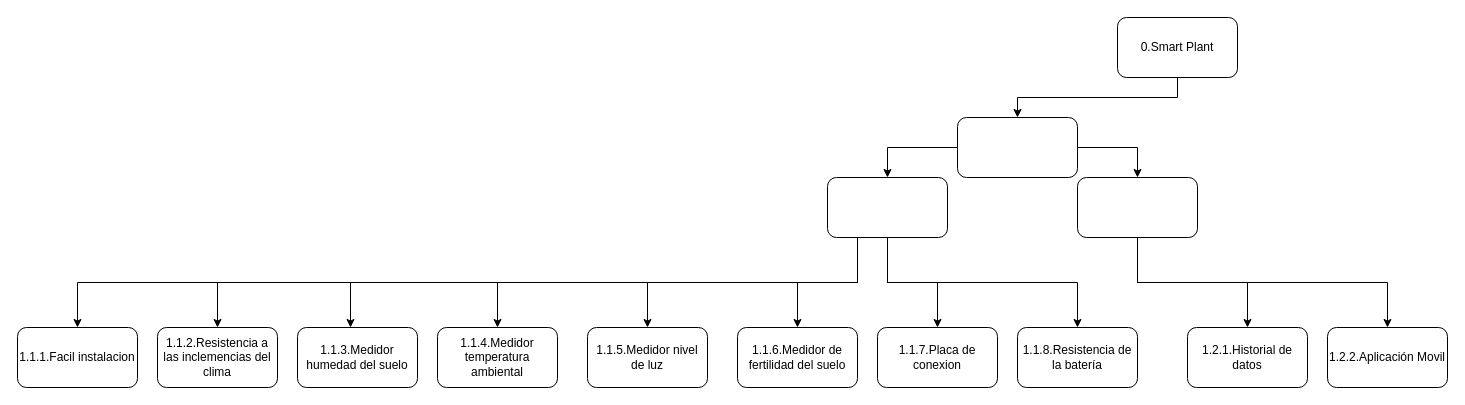
This 1465x405 diagram has some shape labels left out. Here are the shapes that lost their labels. From the top down, the centre of each, then its label:
pixel 1017 147: 1.desarrollar las características necesarios del producto.
pixel 887 207: 1.1.Caracteristicas Físicas
pixel 1137 207: 1.2.Caracteristicas Digitales
